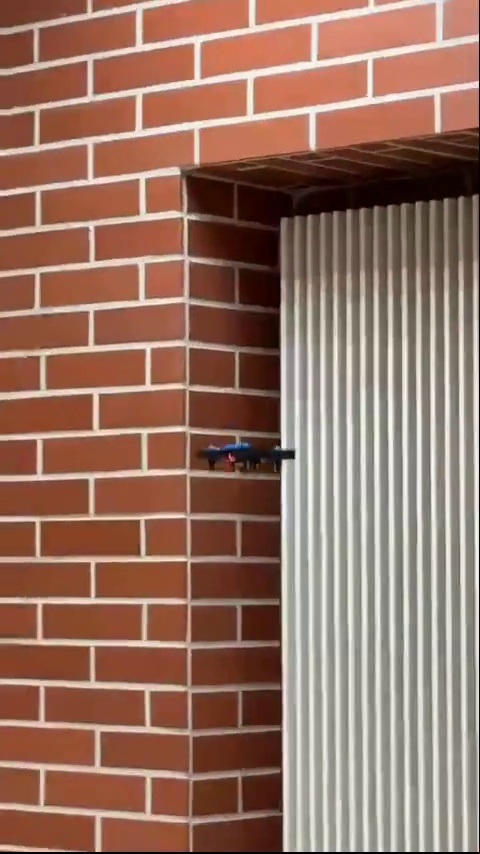drone: (196, 434, 293, 478)
